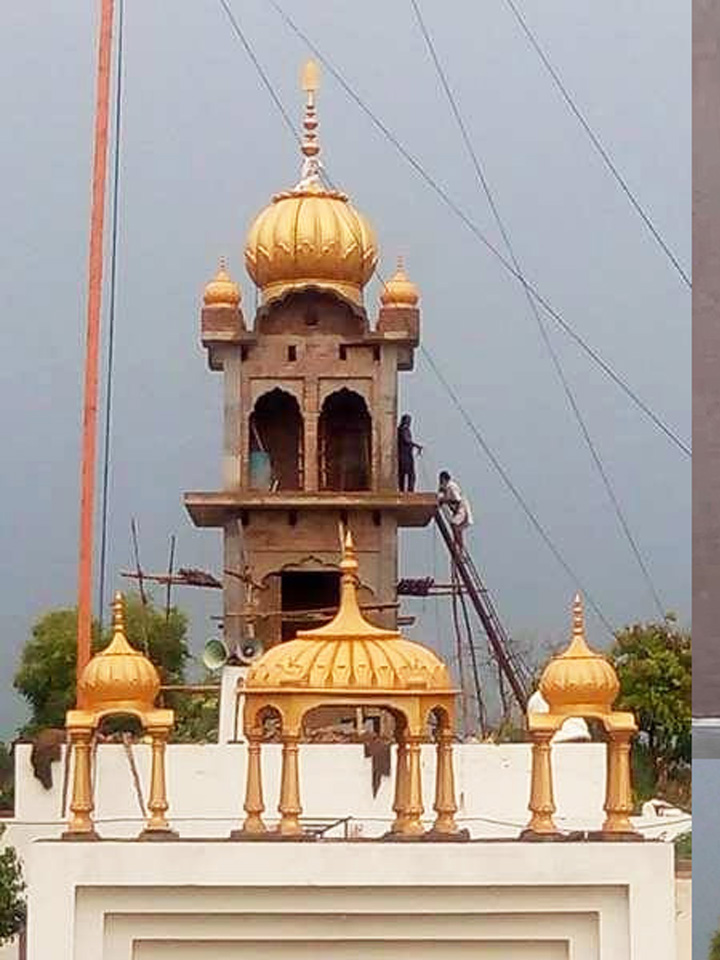Gurdwara: (33, 54, 645, 935)
